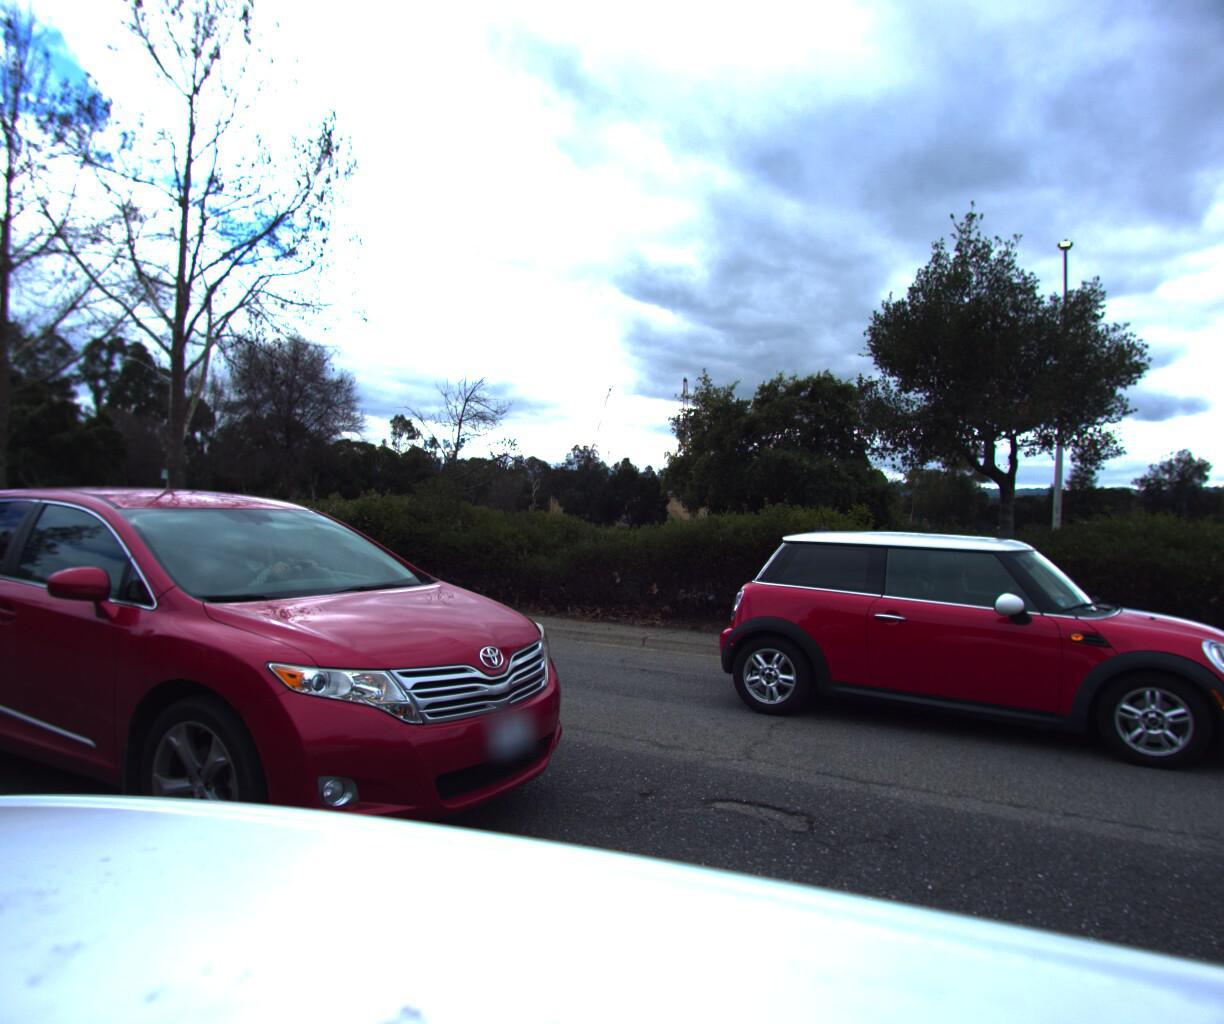car: (0, 472, 614, 965), (703, 520, 1224, 779)
